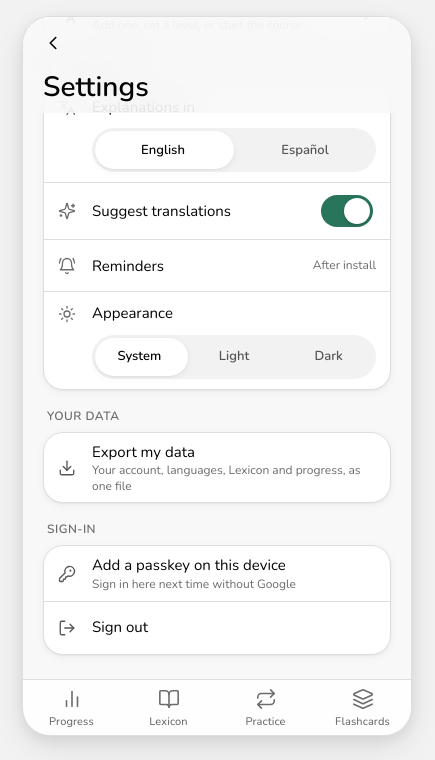
Test: Settings › exports the account as a file
(page scrolled)
Click the button "Export my data" at (217, 468), box left=44, top=433, right=390, bottom=502
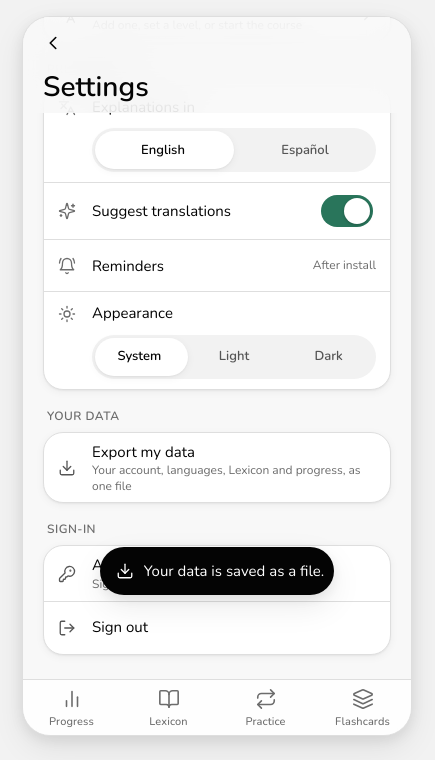
Result: the text "Your data is saved as a file." is shown at left=144, top=560, right=324, bottom=582
